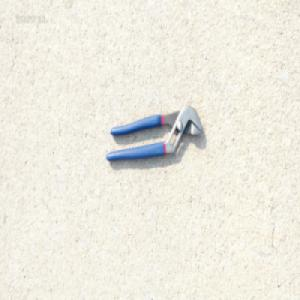Pliers: (104, 105, 203, 163)
